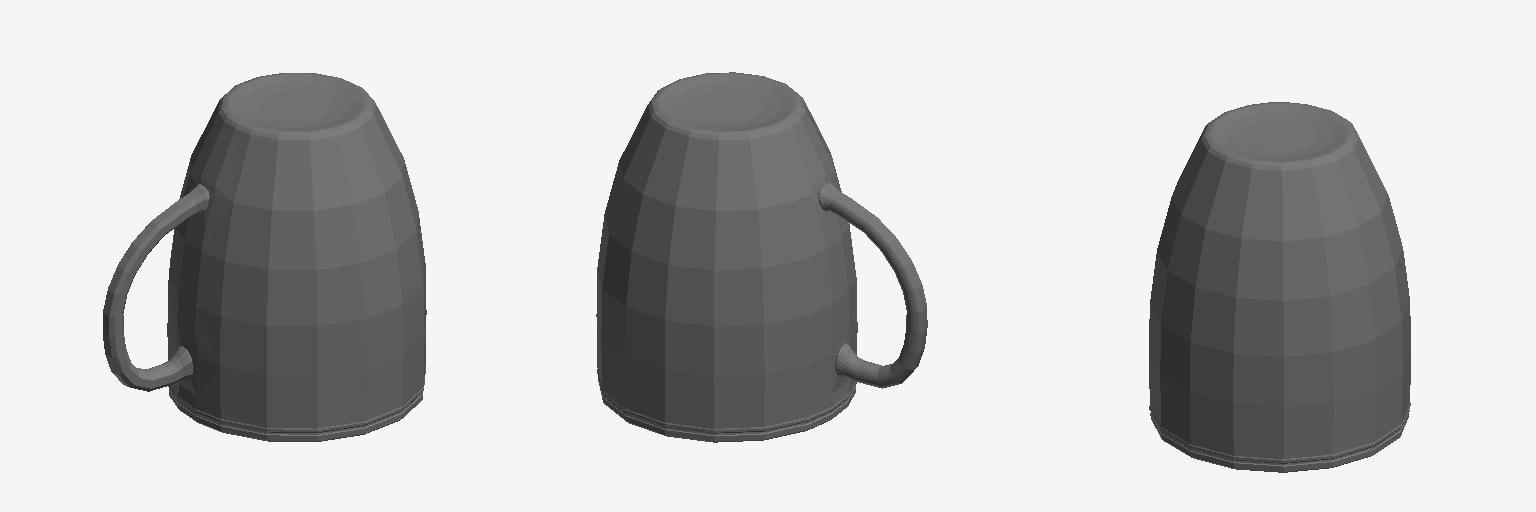
Rendered from mug.obj.
3 views of the same model, side by side, from view 1: azimuth 30°, elevation 25°; view 2: azimuth 150°, elevation 25°; view 3: azimuth 270°, elevation 25° (orthographic).
Visible parts, largest first — view 1: mug:crockery_cup_mesh; view 2: mug:crockery_cup_mesh; view 3: mug:crockery_cup_mesh.
Part boxes in pixels (x1,y1,x2,y2): mug:crockery_cup_mesh: (103, 73, 426, 441); mug:crockery_cup_mesh: (596, 72, 927, 442); mug:crockery_cup_mesh: (1149, 102, 1410, 472).
Bounding box in the file's own units: 10.16 × 8.99 × 7.47.